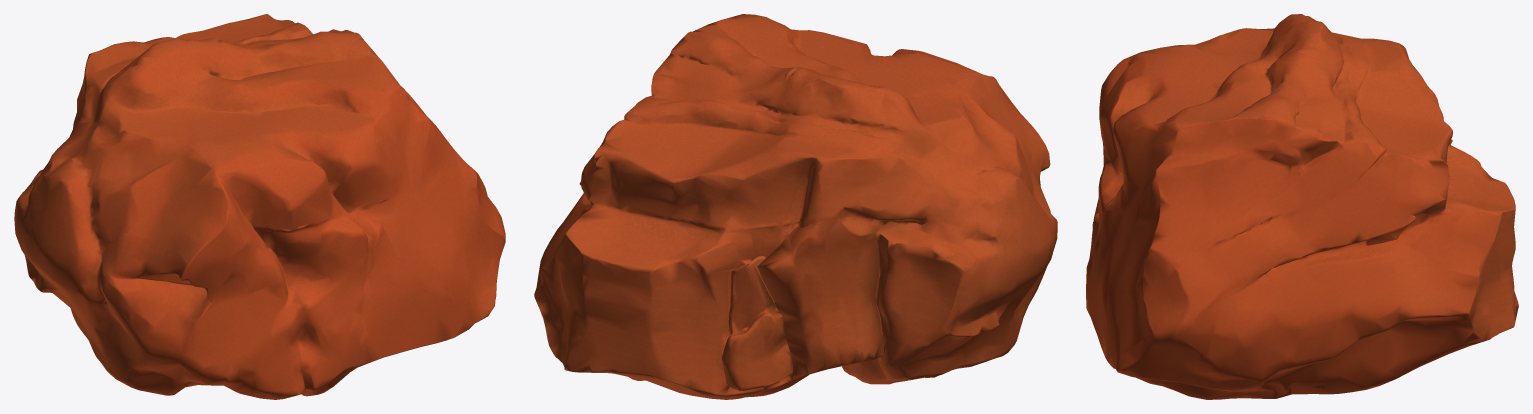
Rendered from rock_desert.glb.
The picture shows the model from 3 angles, left to right: view 1: azimuth 30°, elevation 25°; view 2: azimuth 150°, elevation 25°; view 3: azimuth 270°, elevation 25°; orthographic projection. The views are drawn at different scales.
Size of the model in its own units: 1.9 by 1.31 by 1.75.
Materials: 1 (1 with a texture image).
